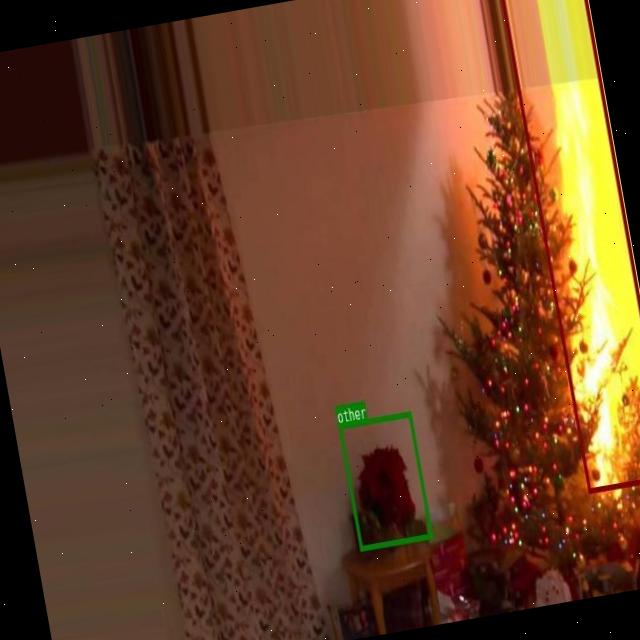fire: (493, 0, 640, 491)
